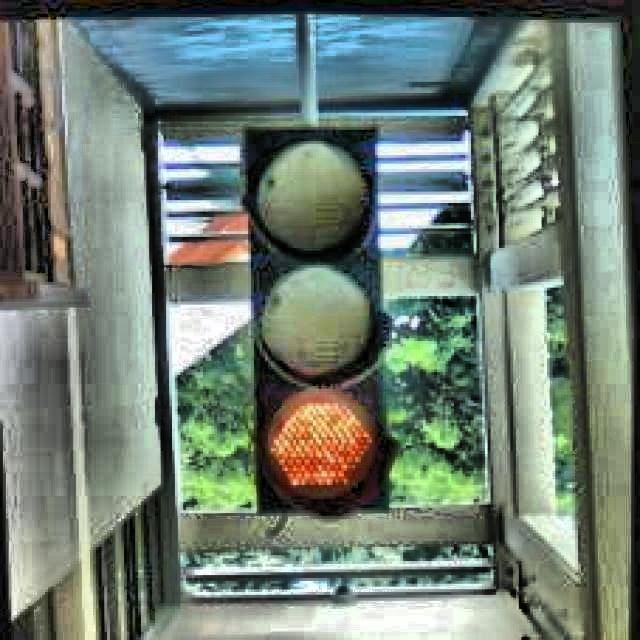red: (243, 121, 393, 514)
